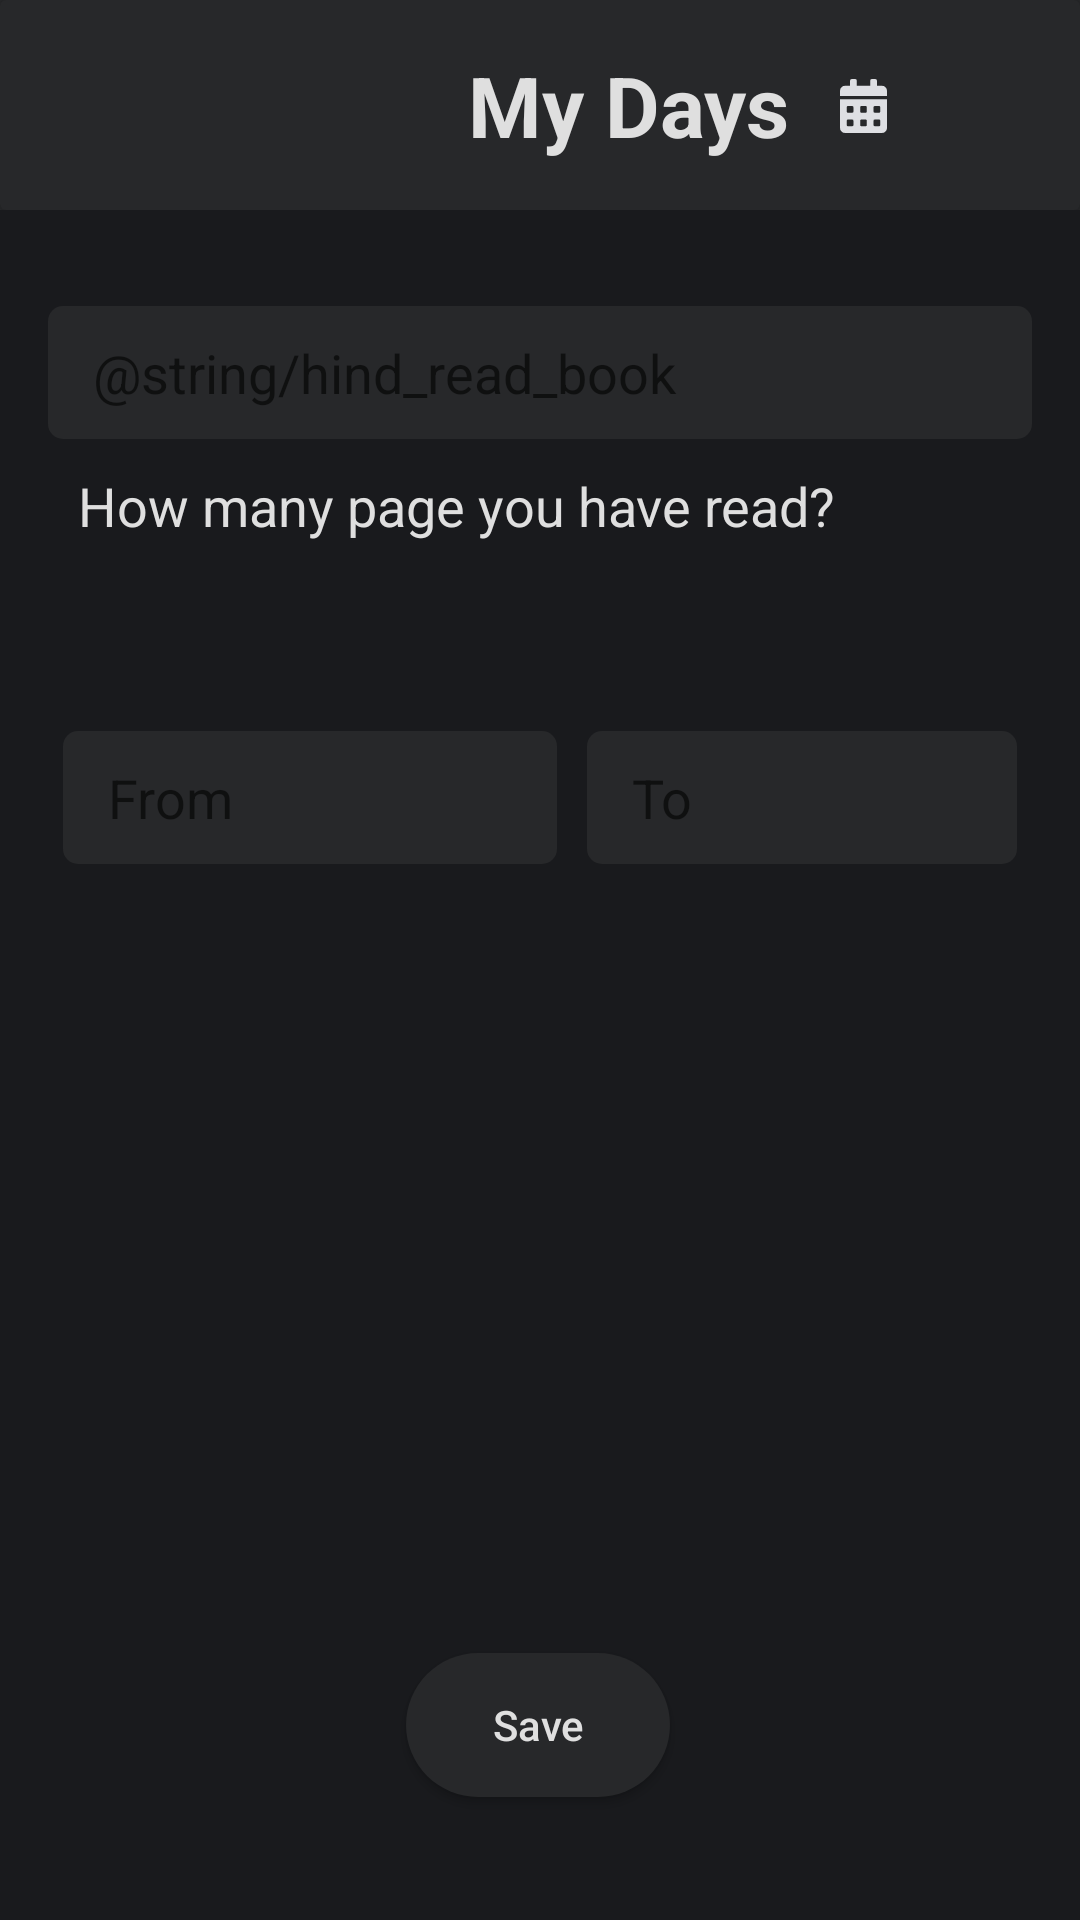

Locate icon controls on the screen. Image size 1080px×1920px, boxes as (x1, y1, x2, y2).
awesome calendar: (840, 79, 887, 133)
